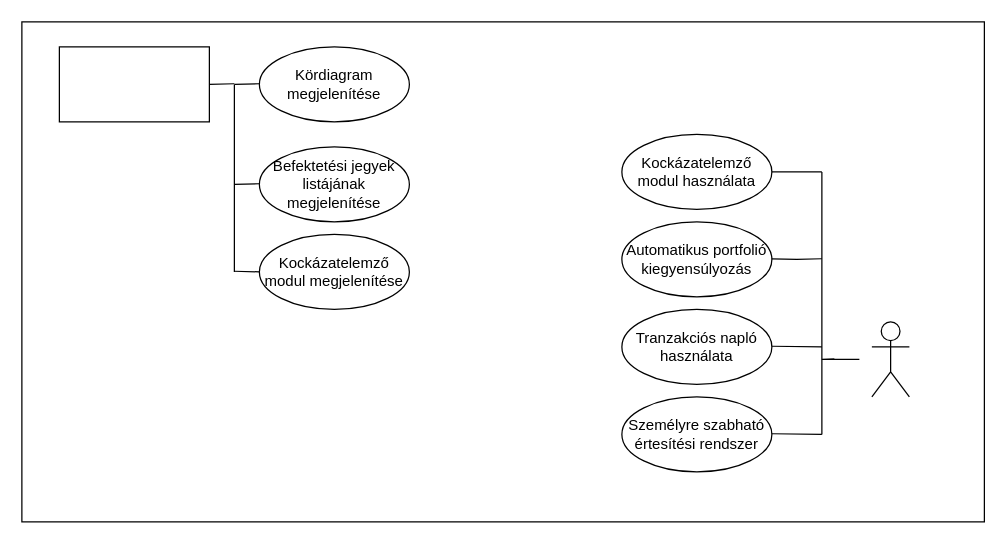
This 1006x544 diagram has some shape labels left out. Each missing label, with the centre of its shape:
"Felhasználó" belongs at (890,359).
"Portfóliókezelő rendszer" belongs at (133,84).
